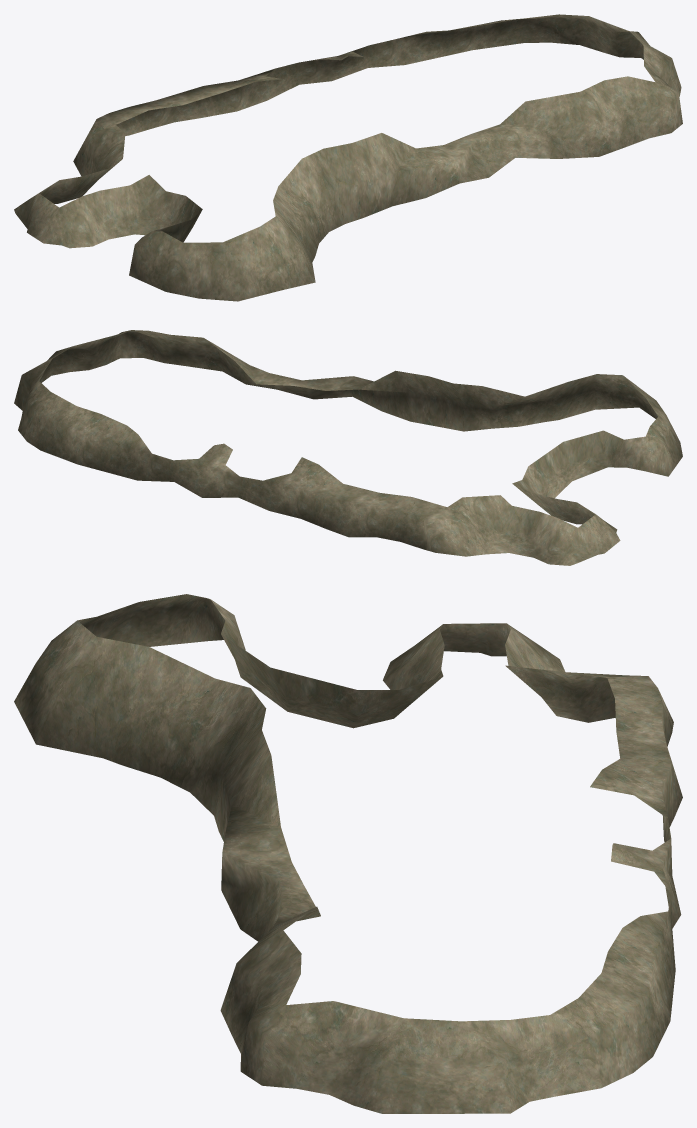
The model's file is EKH_GROTTO_PS_GR_OBJECT70.fbx.
3 views of the same model, one above another, from view 1: azimuth 30°, elevation 25°; view 2: azimuth 150°, elevation 25°; view 3: azimuth 270°, elevation 25° (orthographic). The views are drawn at different scales.
Visible parts, largest first — view 1: EKH_GROTTO_PS_GR_OBJECT70; view 2: EKH_GROTTO_PS_GR_OBJECT70; view 3: EKH_GROTTO_PS_GR_OBJECT70.
Boxes of the visible parts, left/top/right/bottom form: EKH_GROTTO_PS_GR_OBJECT70: left=14, top=14, right=682, bottom=301; EKH_GROTTO_PS_GR_OBJECT70: left=14, top=330, right=682, bottom=565; EKH_GROTTO_PS_GR_OBJECT70: left=14, top=594, right=682, bottom=1113.
Size of the model in its own units: 282514 by 34138 by 164354.
Materials: 1 (1 with a texture image).
